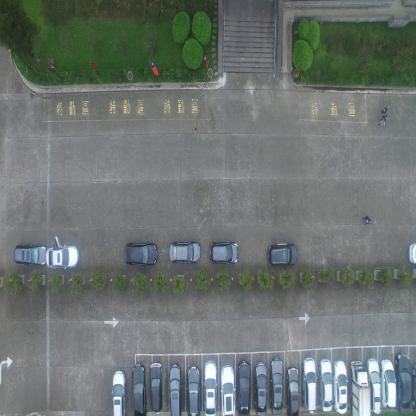car: (349, 358, 371, 416), (394, 350, 410, 413), (364, 354, 380, 412), (378, 356, 396, 407), (301, 354, 316, 414), (46, 243, 79, 270), (123, 240, 158, 265), (168, 238, 201, 264), (266, 240, 298, 266), (167, 363, 183, 415), (220, 364, 236, 416), (318, 355, 333, 410), (14, 243, 48, 267), (237, 358, 251, 416), (149, 361, 164, 414), (203, 359, 217, 415), (333, 357, 347, 413), (270, 354, 283, 414), (132, 364, 147, 416), (186, 364, 201, 415), (285, 364, 299, 416), (209, 239, 238, 264), (254, 360, 267, 414), (112, 367, 126, 415), (407, 242, 416, 264), (412, 360, 415, 412)
